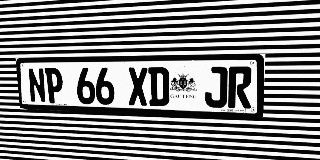6: (95, 67, 115, 105), (76, 67, 96, 104)
D: (148, 67, 169, 106)
J: (205, 67, 228, 108)
N: (27, 68, 46, 103)
P: (44, 68, 64, 103)
R: (228, 66, 252, 108)
X: (127, 67, 148, 106)
